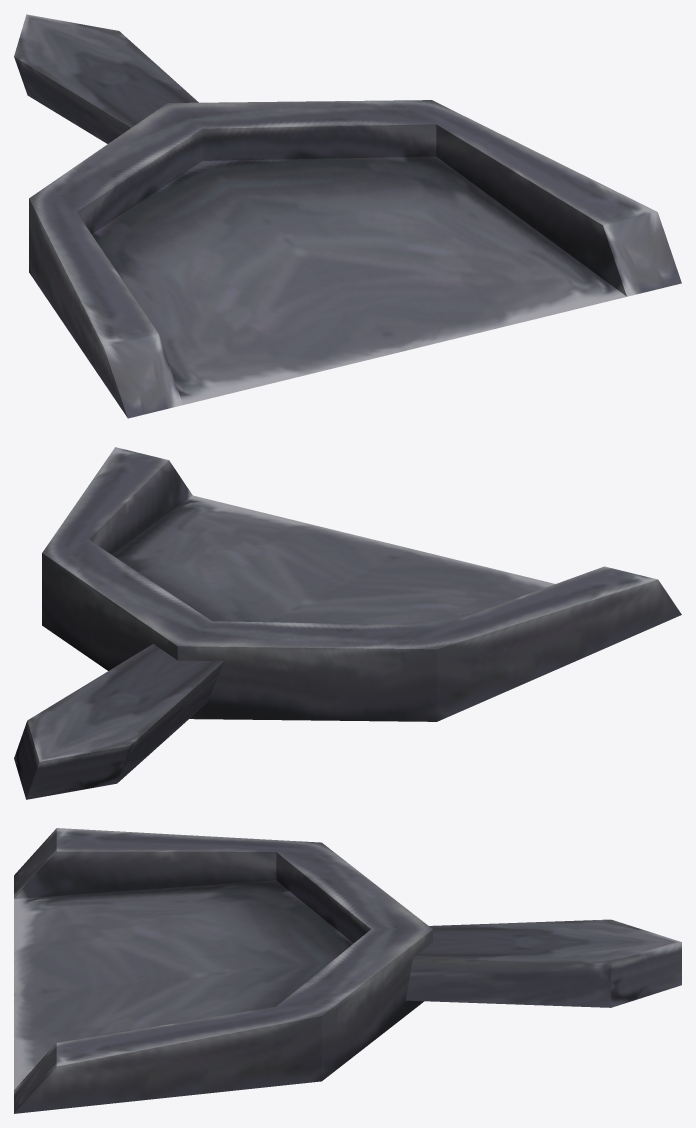
Rendered from e_asset_dustpan.fbx.
3 views of the same model, one above another, from view 1: azimuth 30°, elevation 25°; view 2: azimuth 150°, elevation 25°; view 3: azimuth 270°, elevation 25° (orthographic). The views are drawn at different scales.
Visible parts, largest first — view 1: polySurface1022; view 2: polySurface1022; view 3: polySurface1022.
Part boxes in pixels (x1,y1,x2,y2): polySurface1022: (14,14,681,418); polySurface1022: (14,447,681,799); polySurface1022: (14,828,681,1113).
Bounding box in the file's own units: 0.2305 × 0.0295 × 0.2727.
